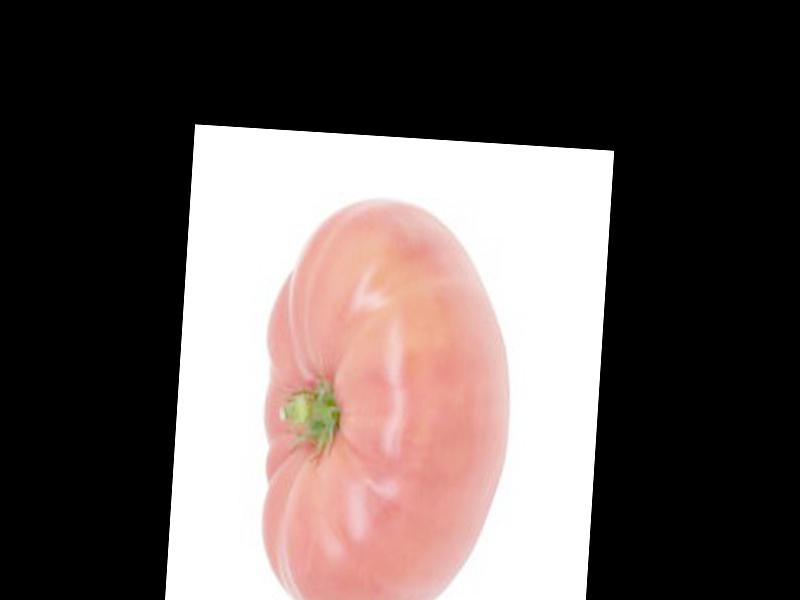Tomato: (254, 192, 520, 600)
